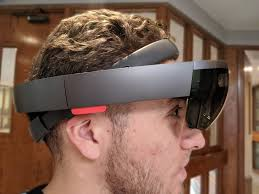hololens: (15, 56, 233, 135)
